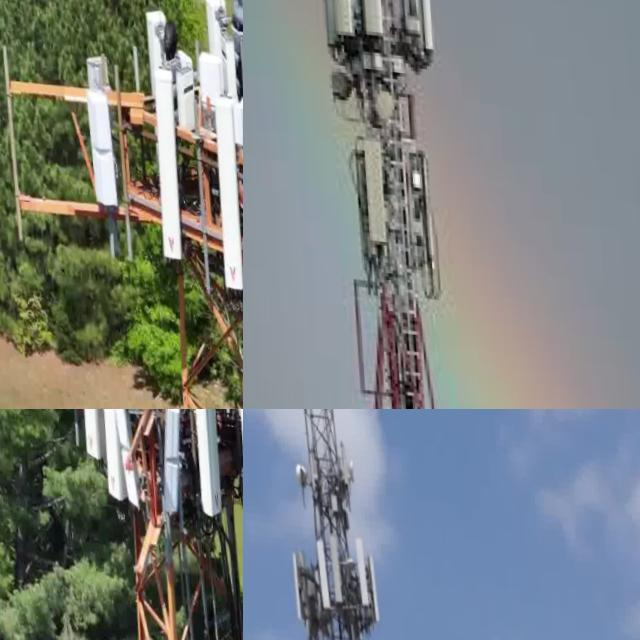GSM Antenna: (136, 49, 188, 266), (195, 79, 243, 296), (68, 73, 117, 208), (175, 409, 230, 517), (145, 409, 185, 517), (84, 409, 131, 498), (353, 129, 382, 238), (335, 519, 364, 628), (270, 529, 300, 634), (308, 507, 337, 613), (296, 520, 323, 618), (347, 527, 371, 627), (59, 409, 106, 459), (401, 0, 441, 49), (220, 409, 243, 493), (342, 0, 390, 37), (312, 0, 360, 33)
Microwave Antenna: (364, 80, 392, 126), (321, 62, 351, 100), (287, 455, 305, 489), (337, 449, 354, 482)
